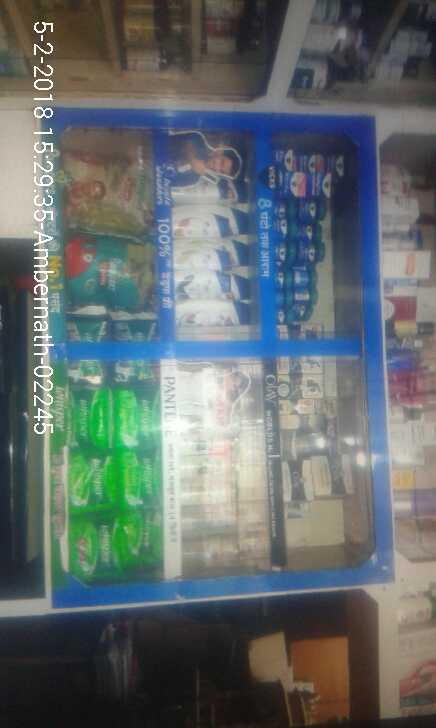beauty: (281, 396, 351, 456), (167, 202, 258, 241), (269, 344, 321, 399), (313, 449, 363, 500), (178, 298, 251, 331), (175, 268, 253, 297), (174, 240, 254, 267)
pharmacy: (61, 126, 164, 237), (59, 231, 150, 306), (276, 141, 350, 194), (61, 512, 112, 577), (116, 383, 164, 450), (65, 450, 120, 507), (65, 384, 113, 447), (113, 508, 164, 566), (118, 447, 161, 504), (267, 203, 297, 270), (302, 218, 328, 267), (298, 189, 326, 219), (289, 283, 324, 307)
